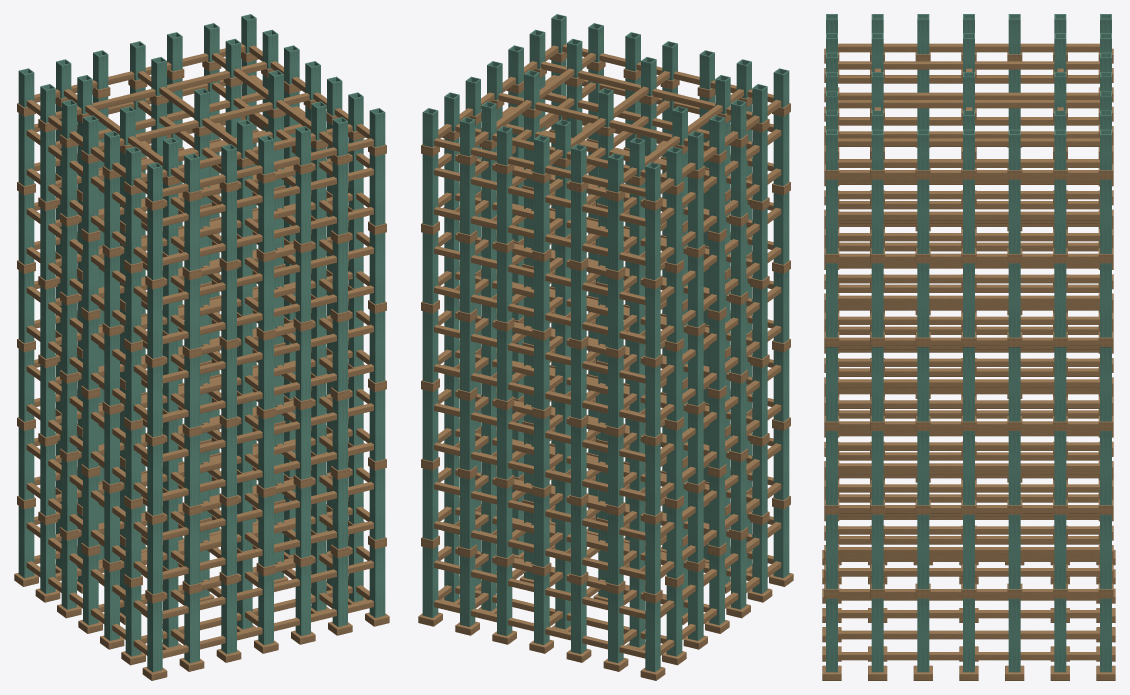
3 views of the same model, side by side, from view 1: azimuth 30°, elevation 25°; view 2: azimuth 150°, elevation 25°; view 3: azimuth 270°, elevation 25° (orthographic). The views are drawn at different scales.
Visible parts, largest first — view 1: Tier 6 internal tie 0-0-0-0.25, Tier 6 internal tie 0-0.56-0-0.25, Tier 2 tie 0-0-0.25, Tier 4 tie 0-0-0.25, Tier 0 tie 0-0-0.25, Tier 3 tie 0-0-0.75, Tier 5 tie 0-0-0.75, Tier 0 tie 0-0-0.75, Tier 2 tie 0-0-0.75, Tier 4 tie 0-0-0.75, Tier 6 tie 0-0-0.25, Tier 1 tie 0-0-0.25 (+151 smaller); view 2: Tier 6 internal tie 0--0.56-0-0.25, Tier 6 internal tie 0-0-0-0.25, Tier 2 tie 2-0-0.25, Tier 4 tie 2-0-0.25, Tier 0 tie 2-0-0.25, Tier 3 tie 2-0-0.75, Tier 5 tie 2-0-0.75, Tier 0 tie 2-0-0.75, Tier 2 tie 2-0-0.75, Tier 4 tie 2-0-0.75, Tier 6 tie 2-0-0.25, Tier 1 tie 2-0-0.25 (+151 smaller); view 3: Tier 0 internal tie 1-0.56-0-0.25, Tier 4 tie 1-0-0.75, Tier 5 internal tie 1-0.56-0-0.25, Tier 6 internal tie 1--0.56-0-0.25, Tier 6 tie 3-0-0.25, Tier 6 internal tie 1-0-0-0.25, Tier 3 tie 3-0-0.75, Tier 1 tie 1-0-0.25, Tier 1 tie 1-0-0.75, Tier 2 internal tie 1-0.56-0-0.25, Tier 2 tie 1-0-0.25, Tier 2 tie 1-0-0.75 (+110 smaller).
Part boxes in pixels (x1,y1,x2,y2): Tier 6 internal tie 0-0-0-0.25: (98, 93, 309, 150); Tier 6 internal tie 0-0.56-0-0.25: (55, 61, 266, 119); Tier 2 tie 0-0-0.25: (162, 442, 373, 501); Tier 4 tie 0-0-0.25: (162, 285, 373, 344); Tier 0 tie 0-0-0.25: (162, 599, 373, 658); Tier 3 tie 0-0-0.75: (162, 324, 373, 383); Tier 5 tie 0-0-0.75: (162, 167, 373, 226); Tier 0 tie 0-0-0.75: (162, 560, 373, 619); Tier 2 tie 0-0-0.75: (162, 403, 373, 461); Tier 4 tie 0-0-0.75: (162, 246, 373, 304); Tier 6 tie 0-0-0.25: (162, 138, 373, 196); Tier 1 tie 0-0-0.25: (162, 521, 373, 579); Tier 6 internal tie 0--0.56-0-0.25: (541, 61, 752, 119); Tier 6 internal tie 0-0-0-0.25: (498, 93, 709, 150); Tier 2 tie 2-0-0.25: (434, 442, 645, 501); Tier 4 tie 2-0-0.25: (434, 285, 645, 344); Tier 0 tie 2-0-0.25: (434, 599, 645, 658); Tier 3 tie 2-0-0.75: (434, 324, 645, 383); Tier 5 tie 2-0-0.75: (434, 167, 645, 226); Tier 0 tie 2-0-0.75: (434, 560, 645, 619); Tier 2 tie 2-0-0.75: (434, 403, 645, 461); Tier 4 tie 2-0-0.75: (434, 246, 645, 304); Tier 6 tie 2-0-0.25: (434, 138, 645, 196); Tier 1 tie 2-0-0.25: (434, 521, 645, 579); Tier 0 internal tie 1-0.56-0-0.25: (838, 630, 1099, 639); Tier 4 tie 1-0-0.75: (838, 274, 1099, 283); Tier 5 internal tie 1-0.56-0-0.25: (838, 211, 1099, 220); Tier 6 internal tie 1--0.56-0-0.25: (838, 61, 1099, 69); Tier 6 tie 3-0-0.25: (838, 43, 1099, 52); Tier 6 internal tie 1-0-0-0.25: (838, 100, 1099, 108); Tier 3 tie 3-0-0.75: (839, 242, 1098, 251); Tier 1 tie 1-0-0.25: (838, 568, 1099, 576); Tier 1 tie 1-0-0.75: (838, 526, 1099, 534); Tier 2 internal tie 1-0.56-0-0.25: (838, 463, 1099, 471); Tier 2 tie 1-0-0.25: (838, 484, 1099, 492); Tier 2 tie 1-0-0.75: (838, 442, 1099, 450).
Bounding box in the file's own units: 1.8 × 3.68 × 1.8.
Materials: 2 (2 with a texture image).
